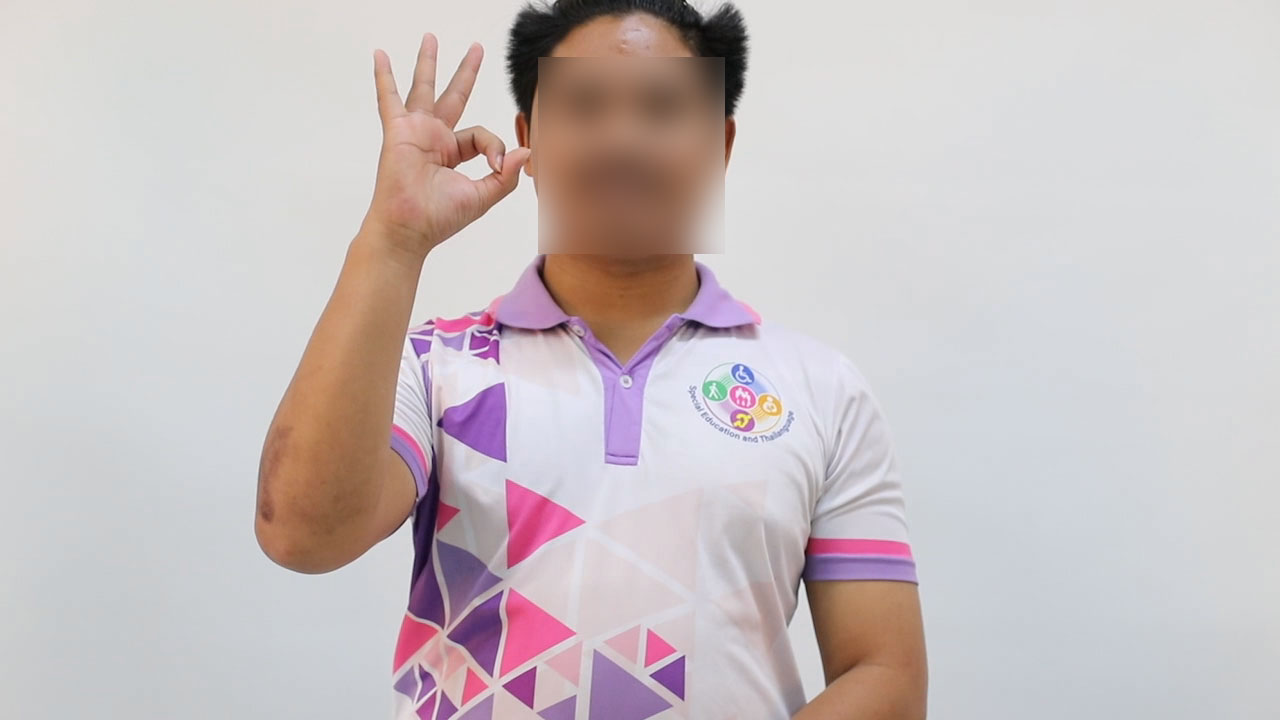for: (330, 25, 541, 260)
